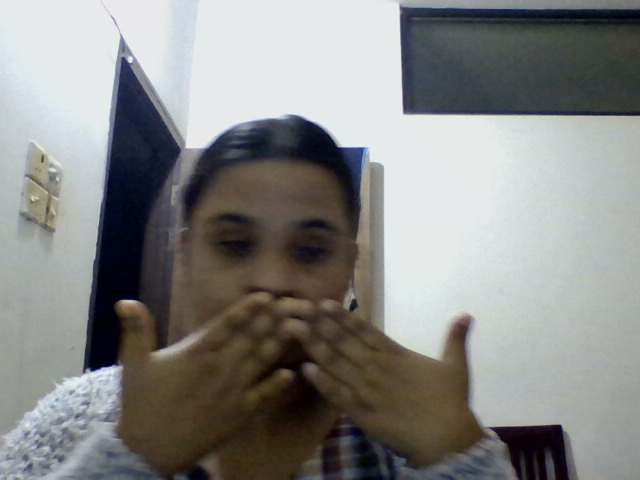Thank You: (47, 106, 542, 438)
